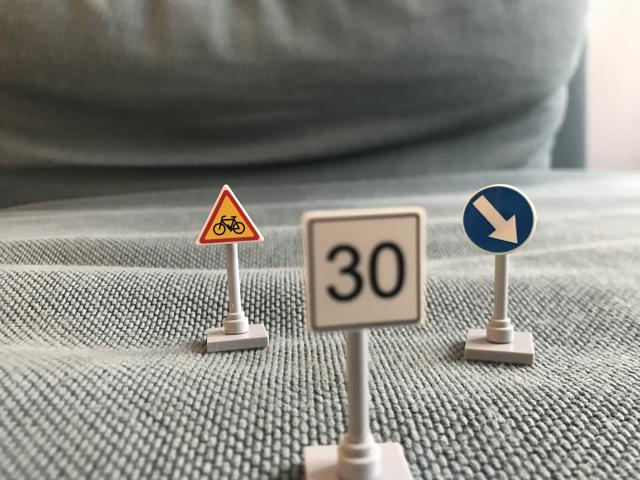radfahrer: (194, 183, 266, 248)
rechts halten: (458, 182, 537, 256)
tempolimit 30: (307, 206, 429, 334)
